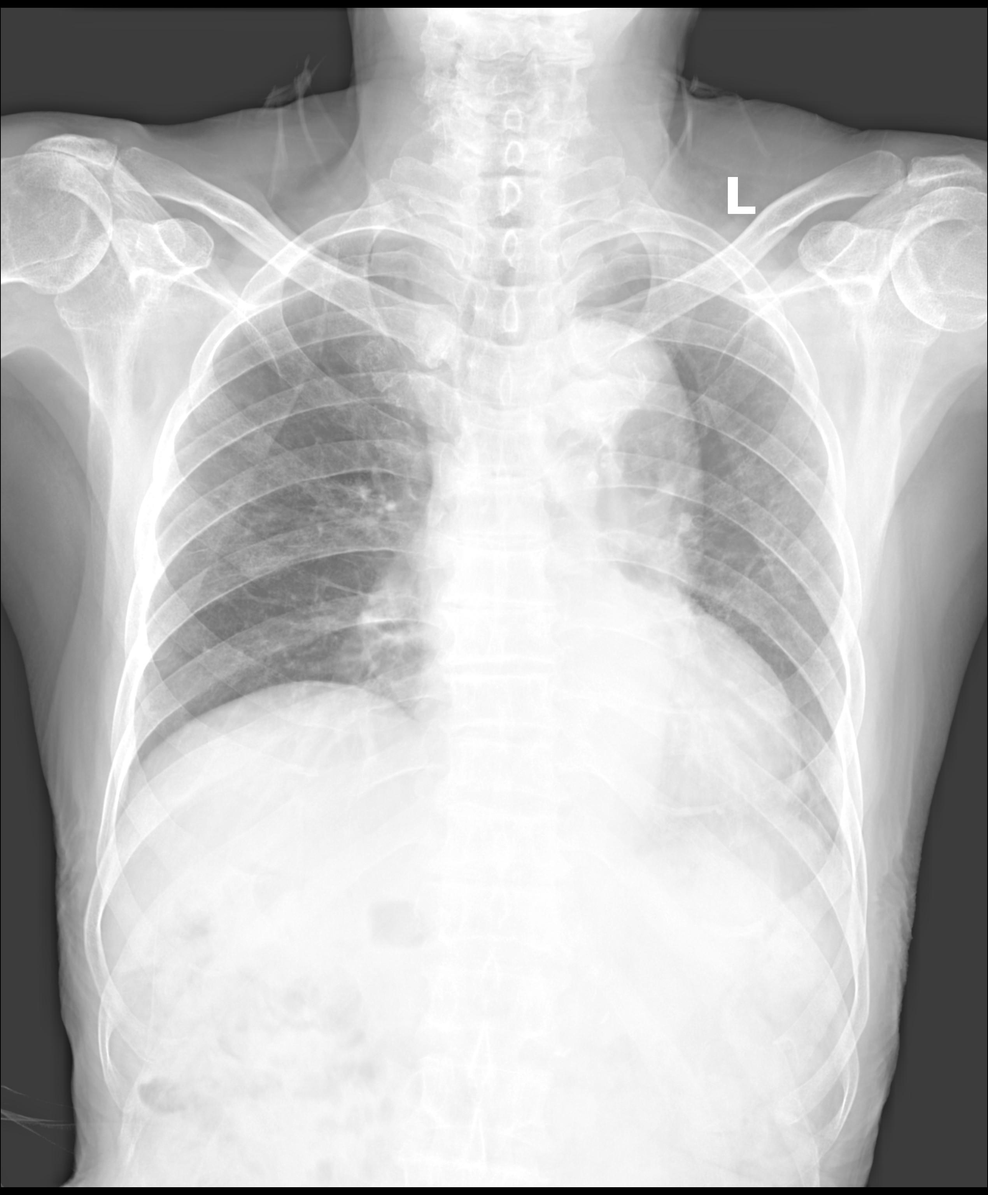Aortic enlargement: (523, 319, 701, 564)
Cardiomegaly: (333, 607, 801, 773)
